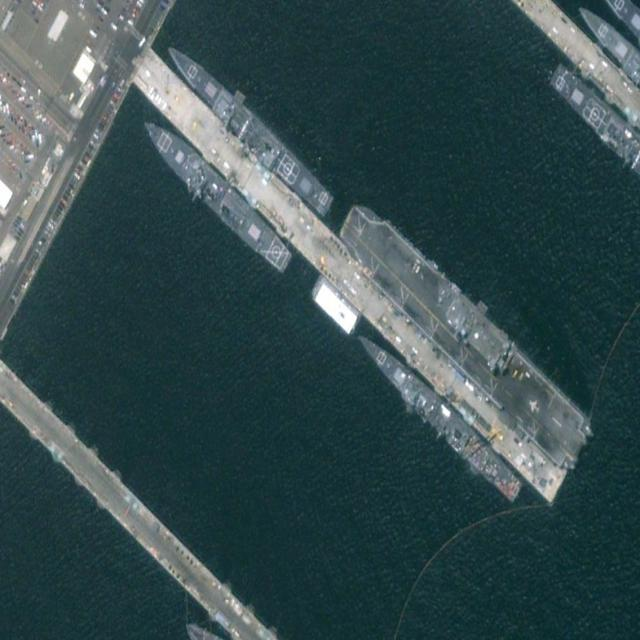Cruiser: (161, 32, 336, 221), (351, 324, 526, 506)
Destroyer: (136, 105, 295, 280)
Landing: (334, 181, 600, 478)
